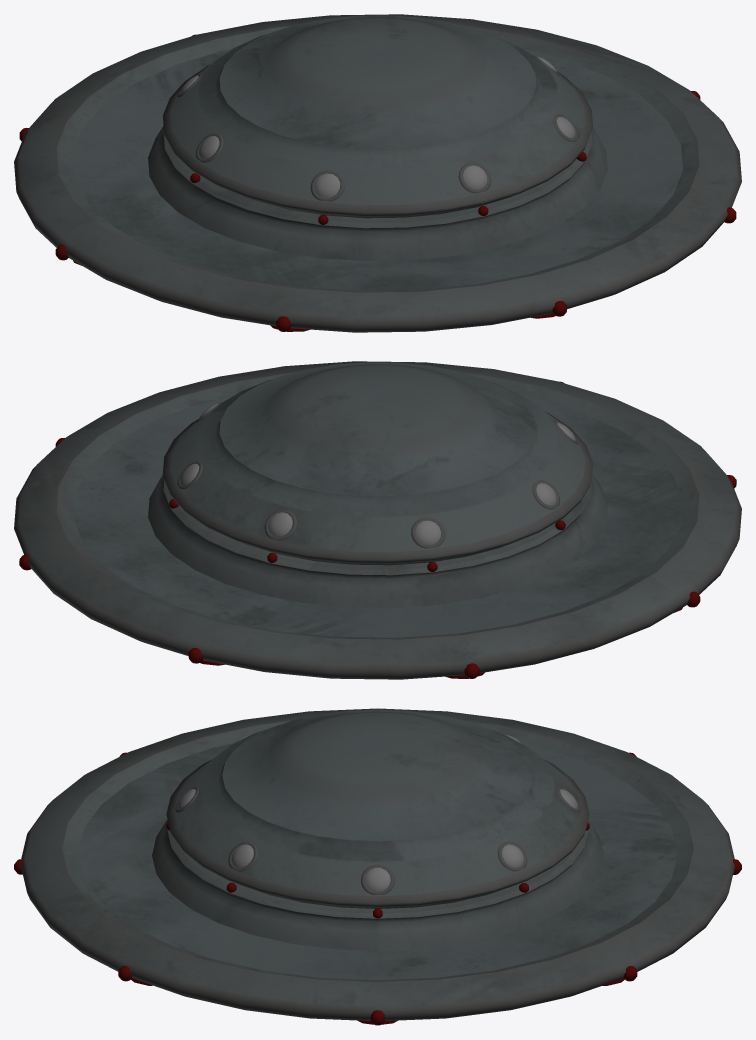
Rendered from ufo.obj.
3 renders of one model, top to bottom at view 1: azimuth 30°, elevation 25°; view 2: azimuth 150°, elevation 25°; view 3: azimuth 270°, elevation 25°, orthographic.
Parts seen in each view (by area): view 1: UFO_UFO_0; view 2: UFO_UFO_0; view 3: UFO_UFO_0.
Boxes of the visible parts, <box> form: UFO_UFO_0: <box>14,14,741,332</box>; UFO_UFO_0: <box>14,361,741,679</box>; UFO_UFO_0: <box>14,708,741,1025</box>.
Bounding box in the file's own units: 96.65 × 30.77 × 96.65.
1 material, 1 textured.
